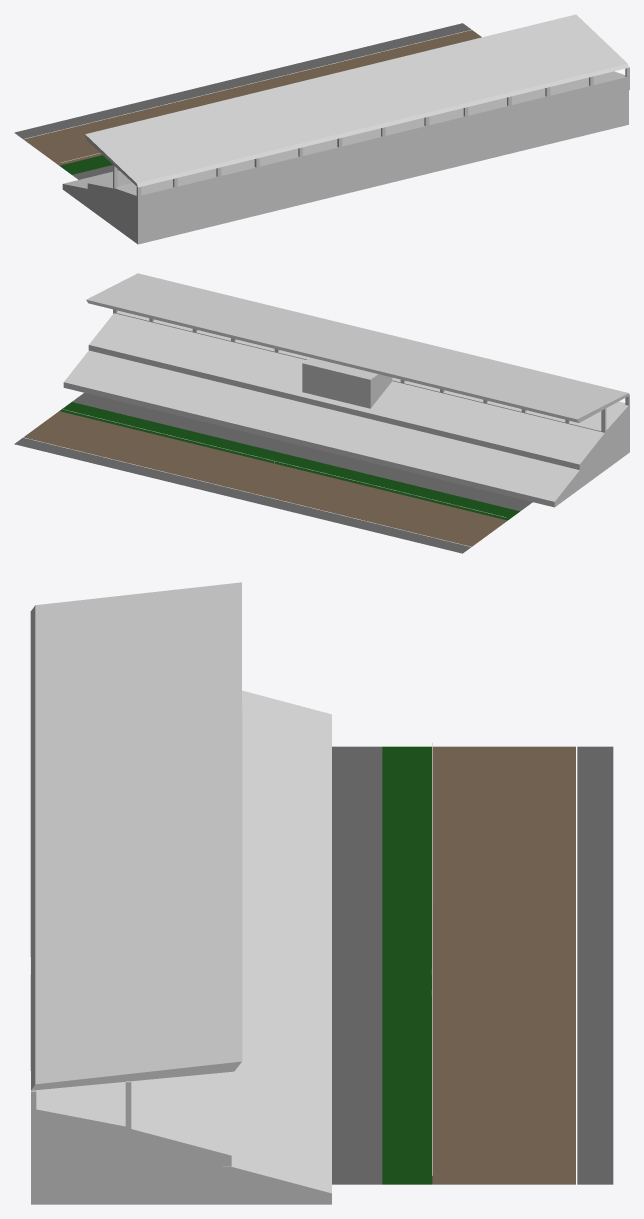
The model's file is HorseTracks.obj.
The picture shows the model from 3 angles, top to bottom: view 1: azimuth 30°, elevation 25°; view 2: azimuth 150°, elevation 25°; view 3: azimuth 270°, elevation 25°; orthographic projection. The views are drawn at different scales.
Bounding box in the file's own units: 158134 × 22000 × 81103.
